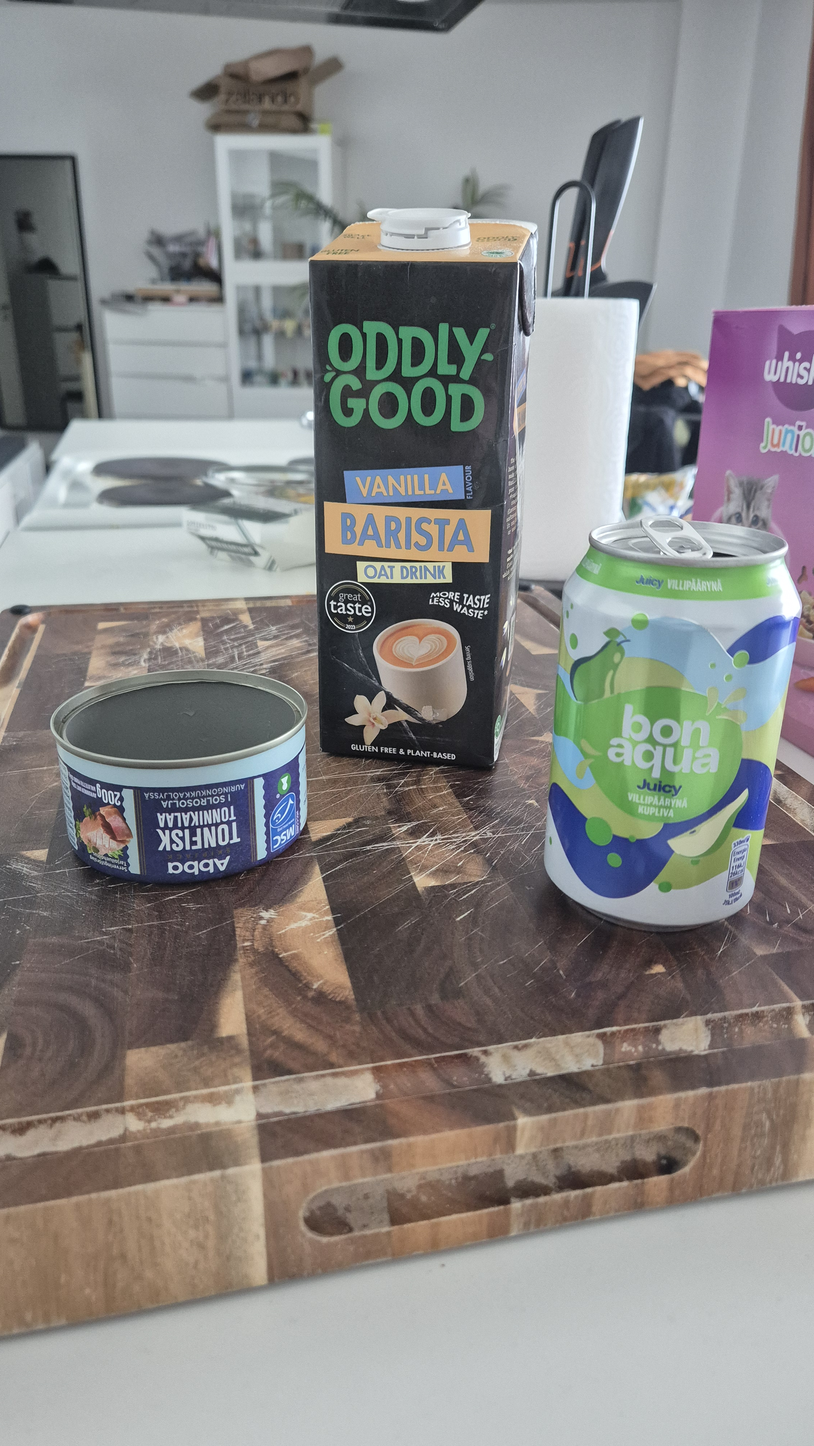Dryckeskartong: (308, 208, 539, 767)
Konservburk: (49, 670, 308, 884)
Pantburk: (544, 516, 802, 932)
